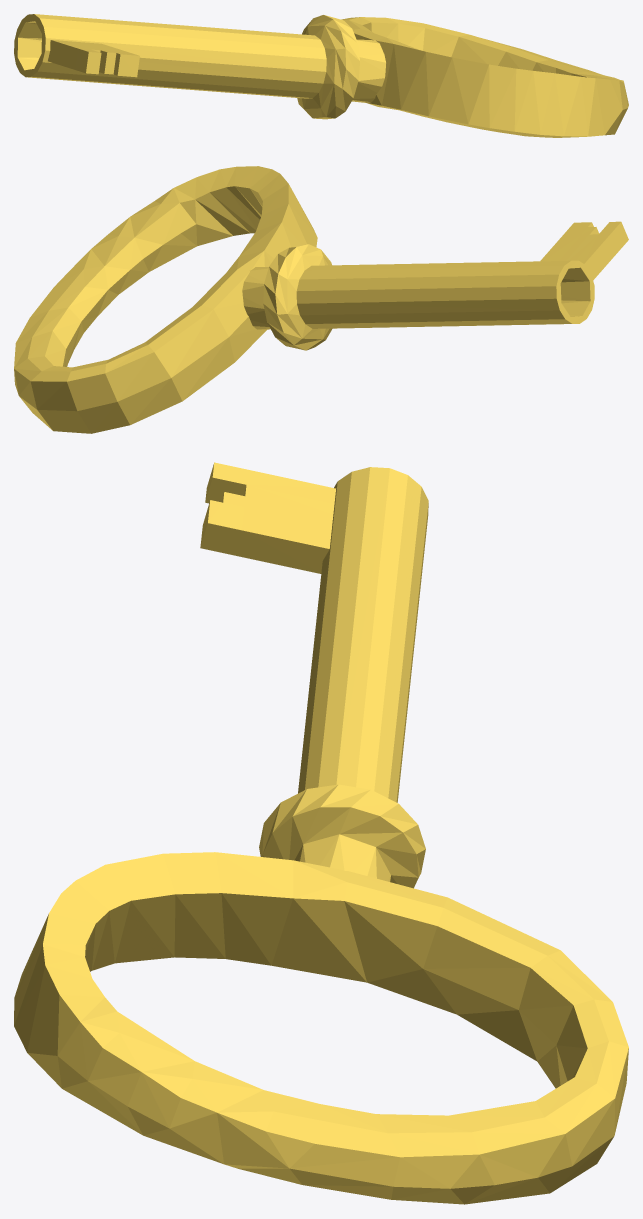
The model's file is key.obj.
The picture shows the model from 3 angles, top to bottom: view 1: azimuth 30°, elevation 25°; view 2: azimuth 150°, elevation 25°; view 3: azimuth 270°, elevation 25°; orthographic projection. The views are drawn at different scales.
Parts seen in each view (by area): view 1: key; view 2: key; view 3: key.
Boxes of the visible parts, bbox=[...] form: key: bbox=[14, 14, 628, 137]; key: bbox=[14, 166, 628, 433]; key: bbox=[14, 462, 628, 1204].
Size of the model in its own units: 10 by 3.99 by 6.14.
